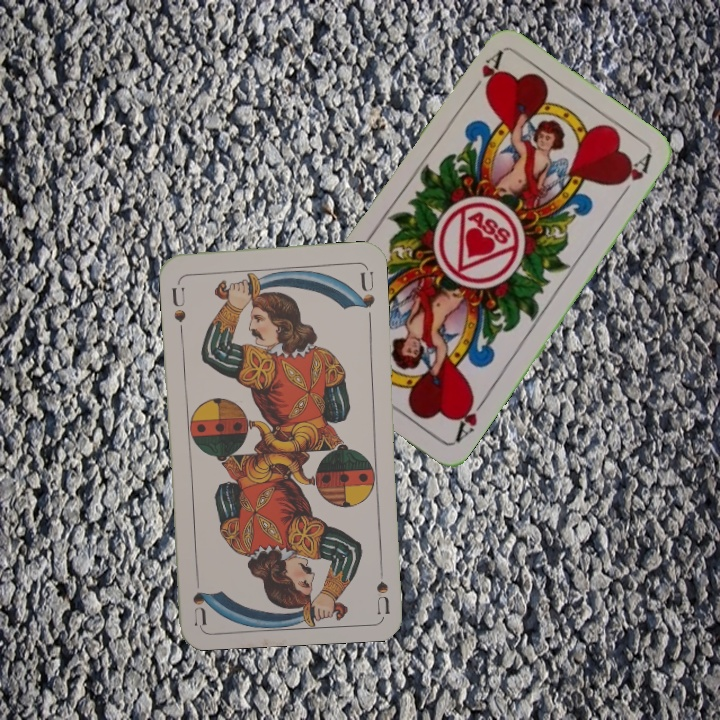HA: (464, 48, 505, 100), (450, 391, 489, 445)
SU: (372, 555, 392, 615), (167, 283, 189, 325)
